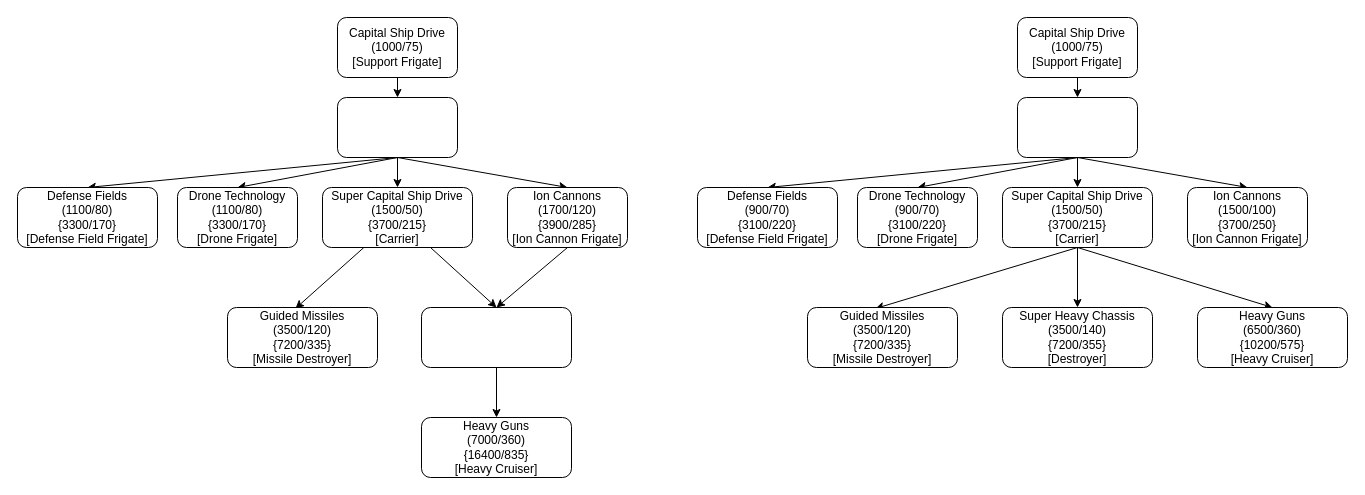
This 1365x495 diagram has some shape labels left out. Here are the shapes that lost their labels. From the top down, the centre of each, then its label:
At pixel 397 127: "Capital Ship Chassis (1200/90) {2200/165} [Assault Frigate]".
At pixel 1077 127: "Capital Ship Chassis (1200/75) {2200/150} [Assault Frigate]".
At pixel 496 337: "Super Heavy Chassis (4000/140) {9400/475} [Destroyer]".
